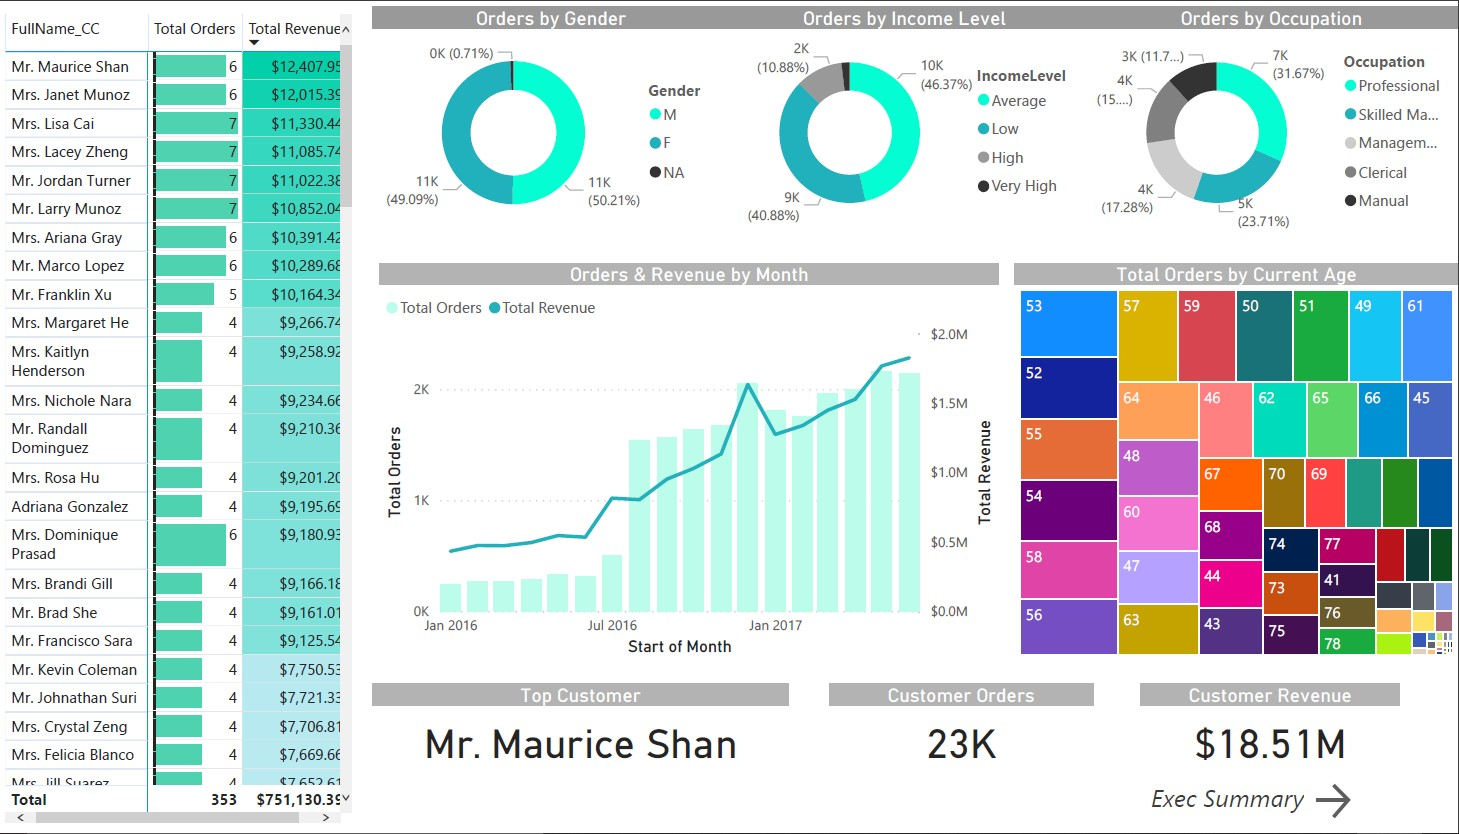

This screenshot's page, from the dashboard's own definition file:
{"tool":"powerbi","page":{"name":"Customer Detail","canvas":[1280,720],"ordinal":2},"visuals":[{"type":"pivotTable","fields":{"Rows":["AW_Customer_Lookup.FullName_CC"],"Values":["AW_Sales.Total Orders","AW_Sales.Total Revenue"]},"box":[0,1.8,312.8,718.7],"z":0},{"type":"donutChart","title":"Orders by Gender","fields":{"Y":["AW_Sales.Total Orders"],"Category":["AW_Customer_Lookup.Gender"]},"box":[327.2,0,312.8,202],"z":1000},{"type":"donutChart","title":"Orders by Income Level","fields":{"Y":["AW_Sales.Total Orders"],"Category":["AW_Customer_Lookup.IncomeLevel"]},"box":[629.3,0,328.9,202],"z":2000},{"type":"donutChart","title":"Orders by Occupation","fields":{"Y":["AW_Sales.Total Orders"],"Category":["AW_Customer_Lookup.Occupation"]},"box":[951.1,0,328.9,202],"z":3000},{"type":"lineClusteredColumnComboChart","title":"Orders & Revenue by Month","fields":{"Y":["AW_Sales.Total Orders"],"Y2":["AW_Sales.Total Revenue"],"Category":["AW_Calendar_Lookup.Start of Month"]},"box":[332.5,225.3,543.5,348.6],"z":4000},{"type":"treemap","fields":{"Values":["AW_Sales.Total Orders"],"Group":["AW_Customer_Lookup.Current Age"]},"box":[890.3,225.3,389.7,348.6],"z":5000},{"type":"card","title":"Top Customer","fields":{"Values":["AW_Customer_Lookup.FullName"]},"box":[327.2,593.5,364.7,80.4],"z":6000},{"type":"card","title":"Customer Orders","fields":{"Values":["AW_Sales.Total Orders"]},"box":[727.6,593.5,230.6,80.4],"z":7000},{"type":"card","title":"Customer Revenue","fields":{"Values":["AW_Sales.Total Revenue"]},"box":[1001.1,593.5,227,80.4],"z":8000},{"type":"textbox","box":[924.2,674,225.3,46.5],"z":9000},{"type":"actionButton","box":[1149.4,676.9,100.6,39.9],"z":10000}]}

Visuals, with their boxes in screenshot pixels (x1, y1, x2, y2), scaled from the page's 1280x720 canvas onto the 1459x834 screenshot:
pivotTable - AW_Customer_Lookup.FullName_CC x AW_Sales.Total Orders: left=0, top=2, right=357, bottom=833
"Orders by Gender" donutChart: left=373, top=0, right=730, bottom=234
"Orders by Income Level" donutChart: left=717, top=0, right=1092, bottom=234
"Orders by Occupation" donutChart: left=1084, top=0, right=1458, bottom=234
"Orders & Revenue by Month" lineClusteredColumnComboChart: left=379, top=261, right=999, bottom=665
treemap - AW_Sales.Total Orders x AW_Customer_Lookup.Current Age: left=1015, top=261, right=1458, bottom=665
"Top Customer" card: left=373, top=687, right=789, bottom=781
"Customer Orders" card: left=829, top=687, right=1092, bottom=781
"Customer Revenue" card: left=1141, top=687, right=1400, bottom=781
textbox: left=1053, top=781, right=1310, bottom=833
actionButton: left=1310, top=784, right=1425, bottom=830
